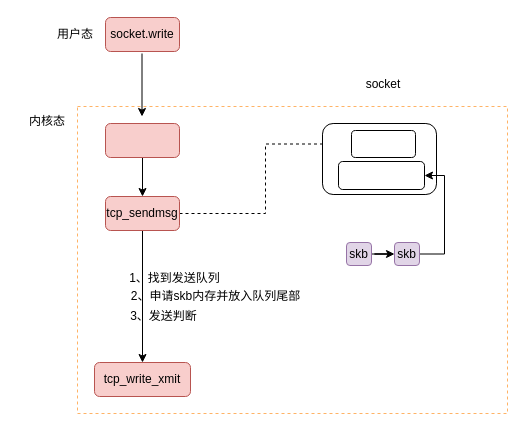
This 525x431 diagram has some shape labels left out. Here are the shapes that lost their labels. From the top down, the centre of each, then its label:
the point at 142,140: inet_sendmsg
the point at 383,144: sk_prot
the point at 381,175: sk_write_queue
